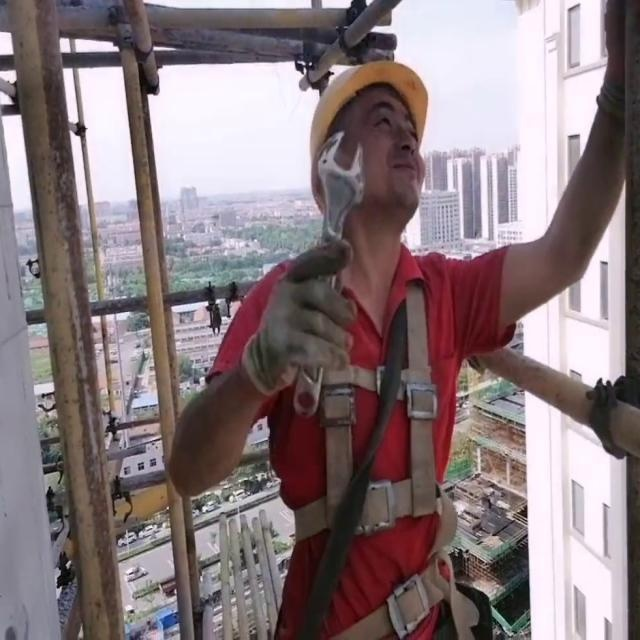Arnes_seguridad: (274, 238, 457, 546)
